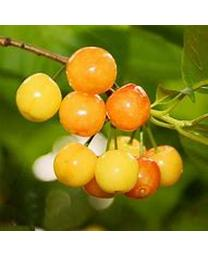cherry: (67, 46, 117, 94), (104, 83, 152, 130), (59, 88, 105, 136), (17, 73, 61, 122), (53, 142, 95, 186), (94, 150, 137, 192), (144, 144, 184, 188), (129, 158, 162, 200)
